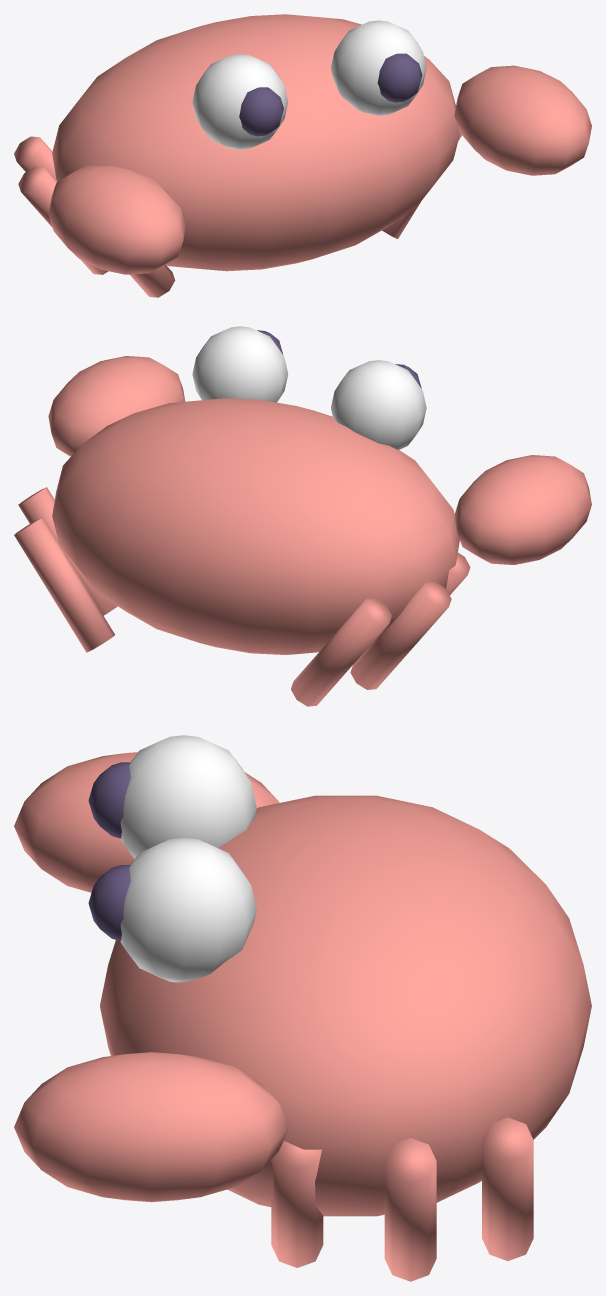
The model's file is critter-crab.glb.
3 renders of one model, top to bottom at view 1: azimuth 30°, elevation 25°; view 2: azimuth 150°, elevation 25°; view 3: azimuth 270°, elevation 25°, orthographic. The views are drawn at different scales.
Visible parts, largest first — view 1: Sphere, Sphere.003, Sphere.006, Sphere.001, Sphere.004, Sphere.005, Sphere.002, Cylinder.001, Cylinder.002, Cylinder, Cylinder.003; view 2: Sphere, Sphere.003, Sphere.006, Sphere.001, Sphere.004, Cylinder.005, Cylinder.002, Cylinder.001, Cylinder.004, Cylinder; view 3: Sphere, Sphere.006, Sphere.004, Sphere.001, Sphere.003, Cylinder.004, Cylinder.005, Cylinder.003, Sphere.002, Sphere.005.
Part boxes in pixels (bbox=[...]): Sphere: bbox=[52, 14, 459, 271]; Sphere.003: bbox=[48, 164, 185, 274]; Sphere.006: bbox=[454, 65, 591, 175]; Sphere.001: bbox=[192, 54, 288, 149]; Sphere.004: bbox=[331, 20, 426, 115]; Sphere.005: bbox=[377, 53, 422, 102]; Sphere.002: bbox=[239, 87, 283, 136]; Cylinder.001: bbox=[18, 166, 107, 274]; Cylinder.002: bbox=[14, 136, 56, 181]; Cylinder: bbox=[130, 265, 175, 297]; Cylinder.003: bbox=[382, 133, 461, 238]; Sphere: bbox=[52, 398, 459, 654]; Sphere.003: bbox=[454, 455, 591, 564]; Sphere.006: bbox=[48, 356, 185, 456]; Sphere.001: bbox=[331, 360, 426, 449]; Sphere.004: bbox=[192, 326, 288, 402]; Cylinder.005: bbox=[14, 517, 114, 652]; Cylinder.002: bbox=[291, 598, 391, 706]; Cylinder.001: bbox=[350, 581, 451, 689]; Cylinder.004: bbox=[18, 487, 117, 615]; Cylinder: bbox=[446, 552, 470, 595]; Sphere: bbox=[100, 795, 591, 1216]; Sphere.006: bbox=[14, 1052, 288, 1202]; Sphere.004: bbox=[120, 838, 256, 982]; Sphere.001: bbox=[120, 735, 256, 858]; Sphere.003: bbox=[14, 752, 279, 892]; Cylinder.004: bbox=[384, 1138, 436, 1281]; Cylinder.005: bbox=[482, 1117, 533, 1261]; Cylinder.003: bbox=[271, 1140, 323, 1267]; Sphere.002: bbox=[88, 762, 130, 838]; Sphere.005: bbox=[88, 865, 130, 941].
Bounding box in the file's own units: 0.5556 × 0.2614 × 0.357.
